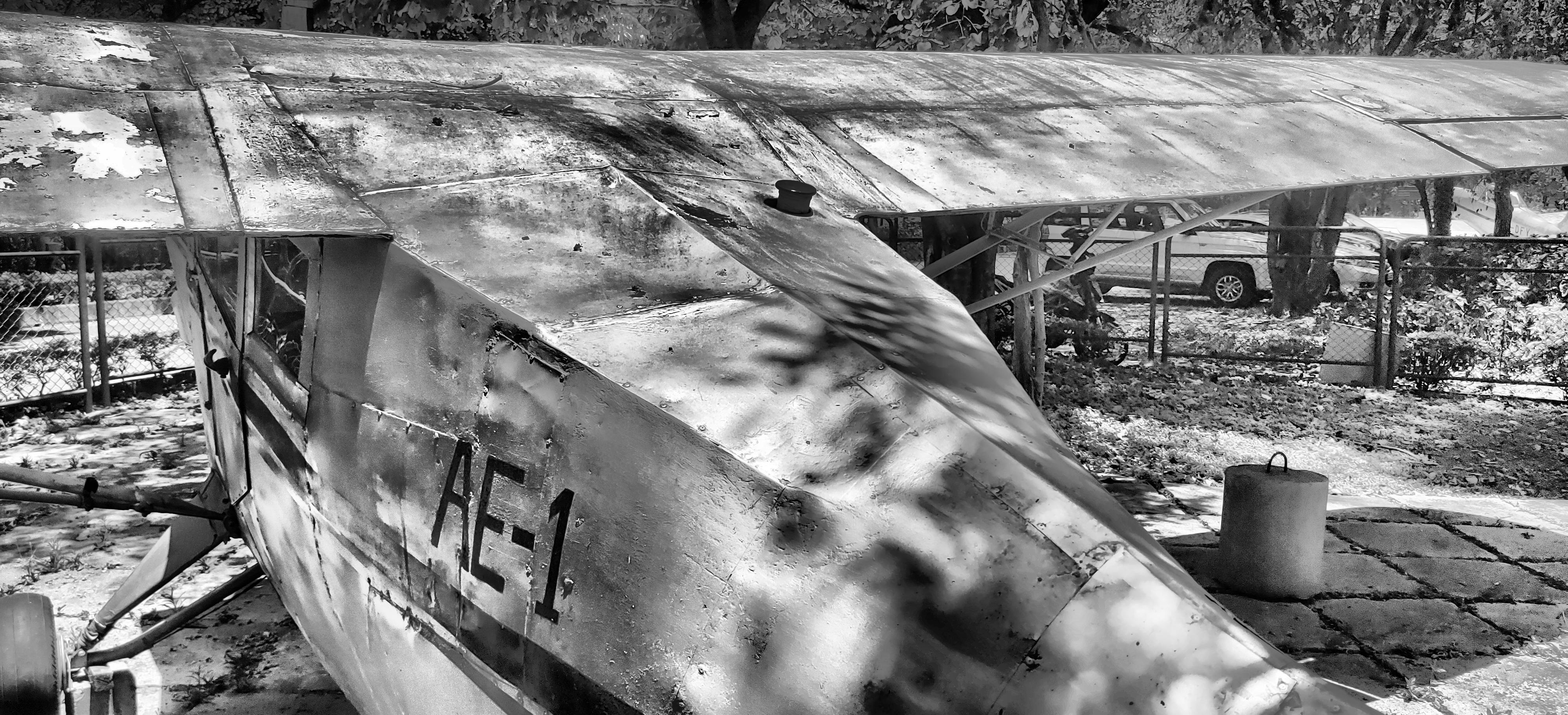crack: (370, 232, 393, 239), (243, 228, 270, 232), (1024, 637, 1038, 643)
dent: (415, 274, 444, 371), (500, 332, 543, 390), (1082, 573, 1135, 593), (399, 609, 425, 643), (457, 604, 480, 633), (427, 590, 433, 603)
paint-peel-off: (0, 94, 169, 180), (74, 20, 162, 63), (412, 97, 525, 118), (673, 201, 740, 230), (85, 218, 157, 232), (242, 54, 285, 74), (144, 187, 177, 204), (644, 104, 676, 118), (686, 109, 719, 118), (0, 176, 18, 191), (627, 286, 647, 299), (1071, 102, 1098, 111), (1025, 650, 1043, 660), (1025, 663, 1040, 671), (71, 223, 79, 230)
scratch: (682, 552, 730, 585), (723, 474, 743, 493), (749, 492, 765, 509)
